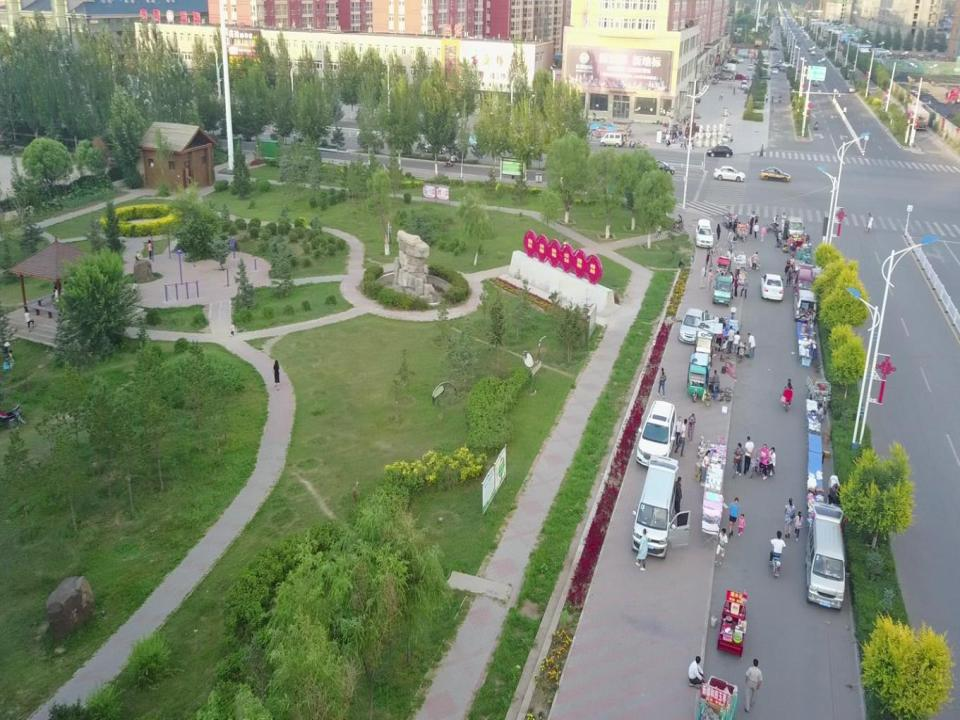car: (680, 308, 705, 344), (760, 273, 784, 301), (694, 219, 714, 248), (713, 166, 745, 182), (760, 166, 792, 182), (648, 161, 676, 175), (706, 146, 733, 158), (740, 79, 748, 89)
truck: (904, 100, 930, 132), (945, 86, 960, 105)
van: (806, 503, 849, 610), (632, 458, 678, 558), (635, 401, 677, 468), (794, 289, 818, 324), (794, 268, 814, 300), (714, 277, 731, 306), (600, 132, 625, 148)
